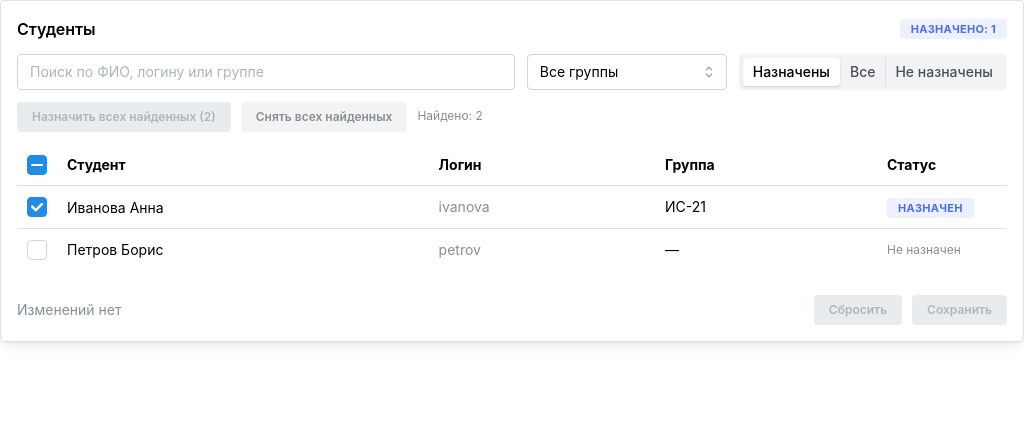
Test: StudentAssignmentCard › копит правки и отправляет их одним запросом «добавить / убрать»
Click the checkbox named "Назначить: Петров Борис". click: (37, 250)
box: [27,240,47,260]
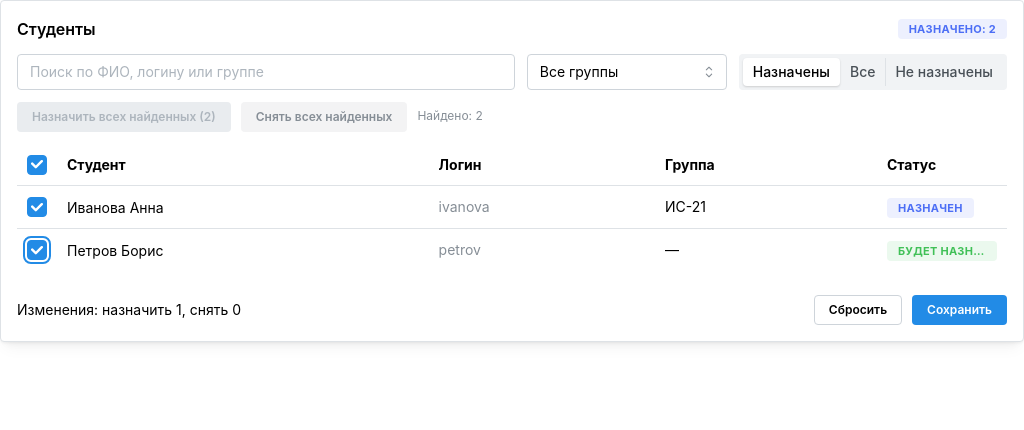
Click the checkbox named "Назначить: Иванова Анна". click: (37, 208)
box: [27,198,47,218]
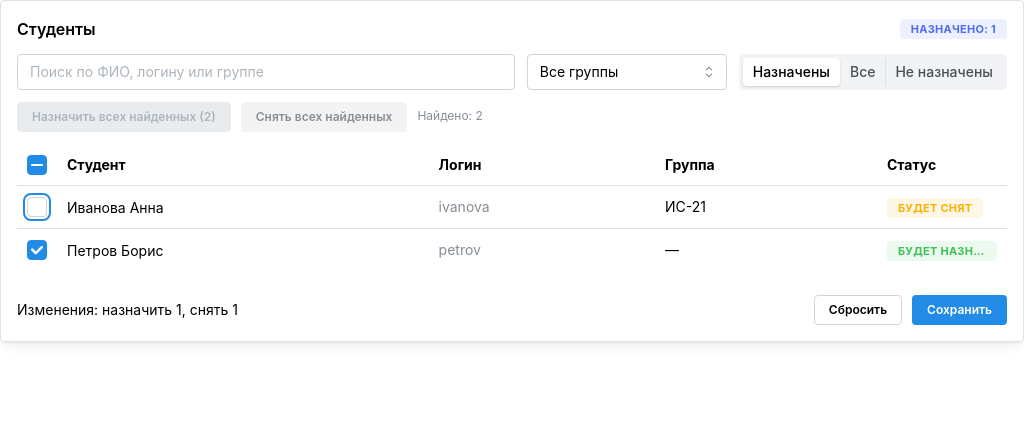
Check: the text "Изменения: назначить 1, снять 1" is shown, box [17,300,238,321]
Check: the text "Назначено: 1" is shown, box [911,20,996,38]
Click the button "Сохранить". click: (960, 310)
box: [912,296,1007,326]
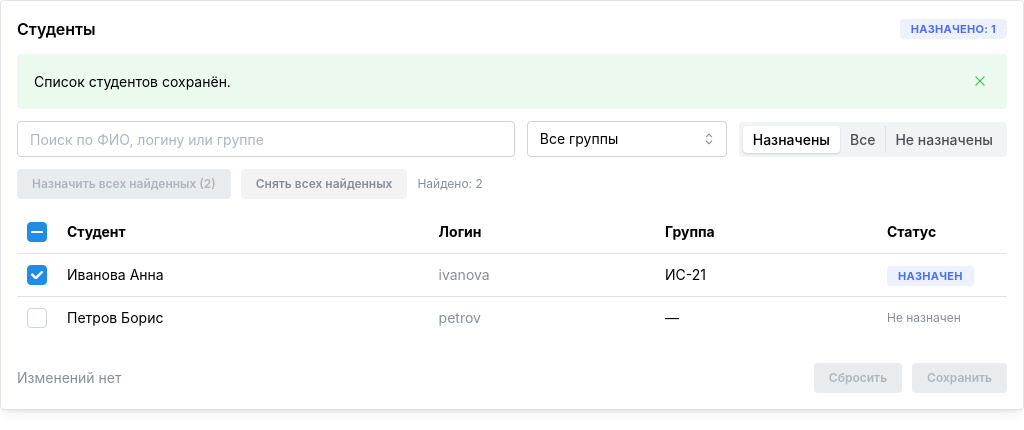
Check: the text "Список студентов сохранён." is shown, box [34,73,231,90]
Check: the text "Изменений нет" is shown, box [17,368,122,388]
